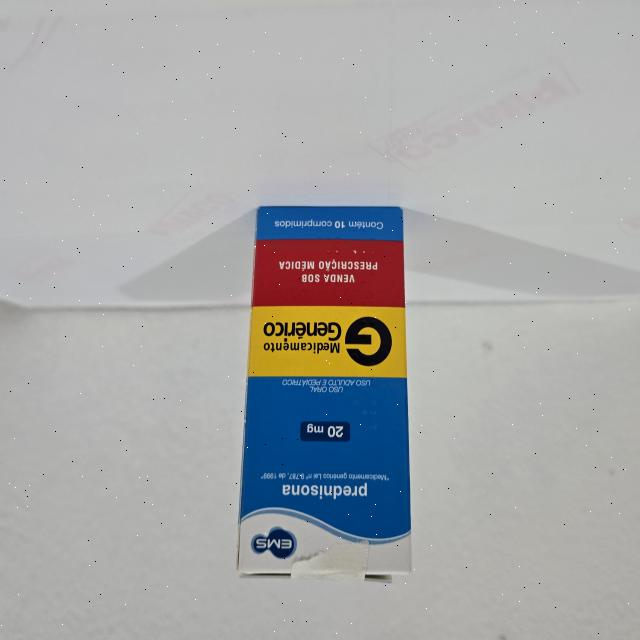prednisona: (233, 197, 418, 588)
